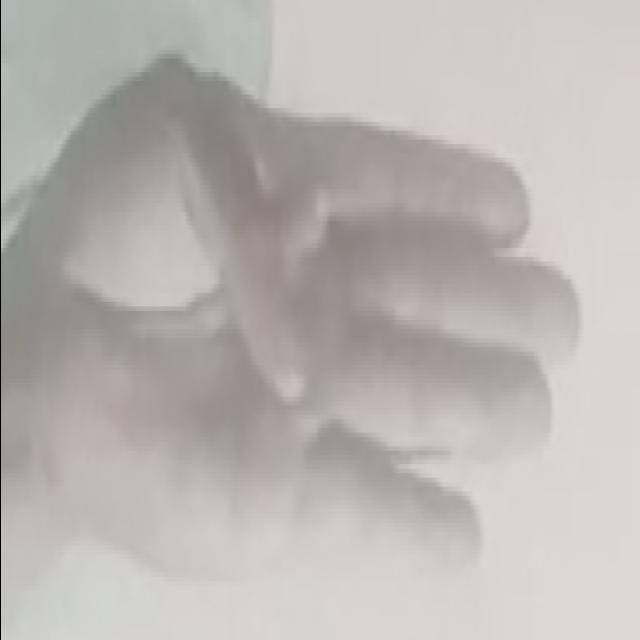B: (26, 43, 588, 604)
